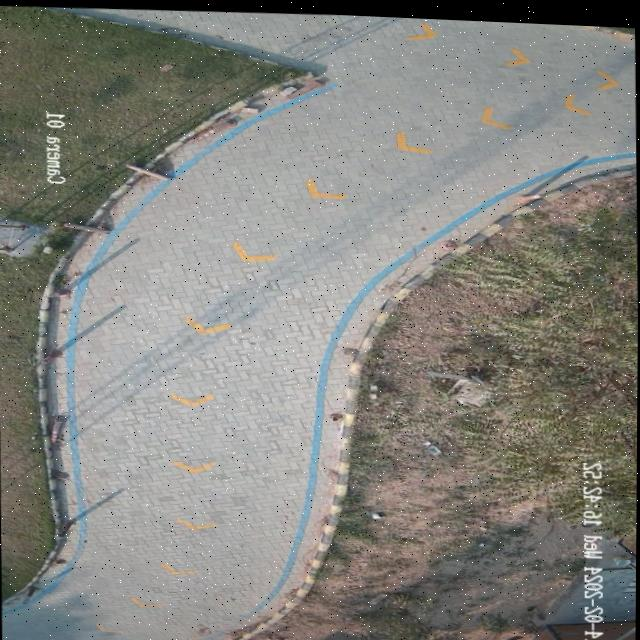No Car: (0, 6, 638, 640)
